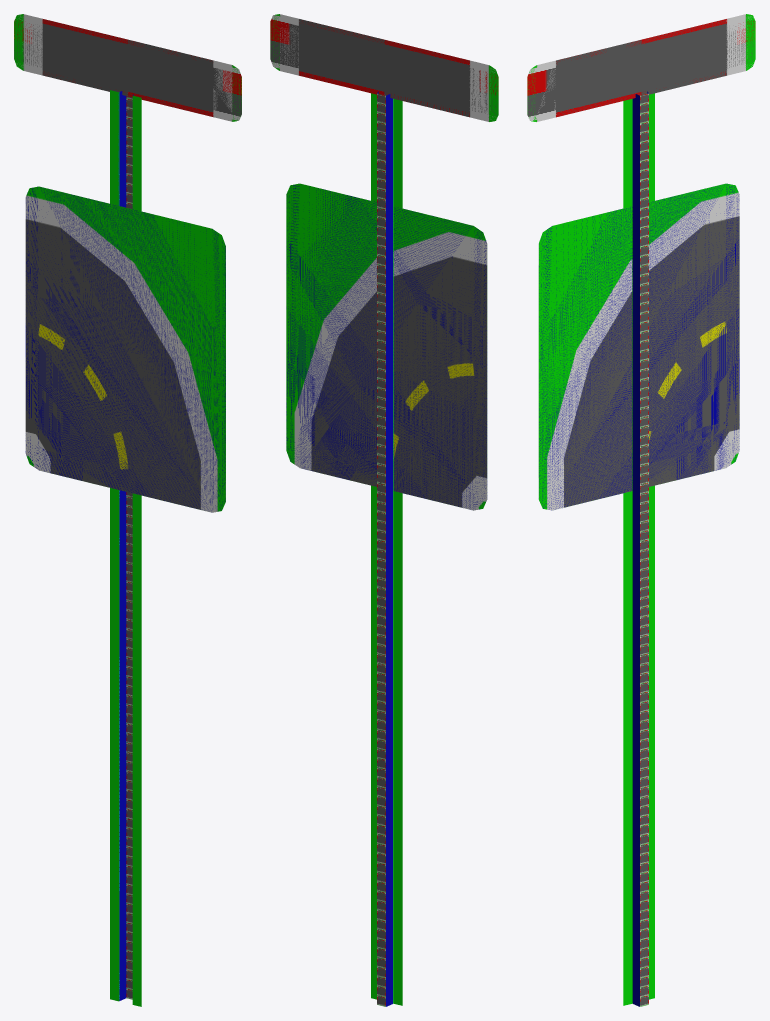
File: hosoi-sign.dae
The picture shows the model from 3 angles, left to right: view 1: azimuth 30°, elevation 25°; view 2: azimuth 210°, elevation 25°; view 3: azimuth 270°, elevation 25°; orthographic projection.
Visible parts, largest first — view 1: skp7cec (×2), Component6_1 (×2), Component3_1 (×2), Component4_1, Component1_1; view 2: skp7cec (×2), Component1_1, Component4_1, Component3_1 (×2), Component6_1 (×2); view 3: skp7cec (×2), Component1_1, Component7_1, Component6_1 (×2), Component3_1 (×2).
Boxes of the visible parts, bbox=[...] form: skp7cec (×2): bbox=[14, 14, 241, 512]; Component6_1 (×2): bbox=[132, 95, 141, 1006]; Component3_1 (×2): bbox=[110, 90, 118, 1001]; Component4_1: bbox=[119, 91, 126, 1001]; Component1_1: bbox=[126, 96, 132, 999]; skp7cec (×2): bbox=[270, 14, 498, 510]; Component1_1: bbox=[377, 93, 385, 1006]; Component4_1: bbox=[386, 94, 393, 1006]; Component3_1 (×2): bbox=[393, 99, 402, 1005]; Component6_1 (×2): bbox=[371, 93, 376, 999]; skp7cec (×2): bbox=[527, 14, 755, 510]; Component1_1: bbox=[640, 93, 648, 1006]; Component7_1: bbox=[632, 94, 639, 1006]; Component6_1 (×2): bbox=[623, 99, 632, 1005]; Component3_1 (×2): bbox=[649, 93, 654, 999].
Bounding box in the file's own units: 12.58 × 21.79 × 102.
